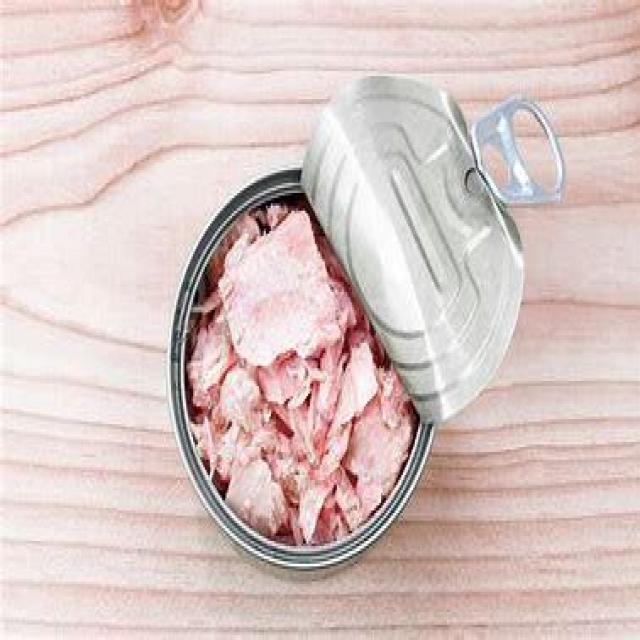can: (164, 71, 526, 585)
pop tab: (471, 91, 569, 205)
